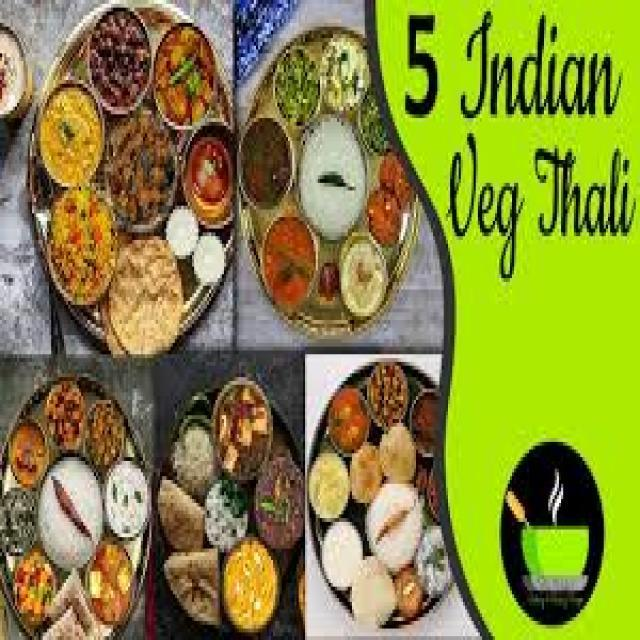curd: (166, 204, 197, 258)
dal: (34, 86, 103, 187)
papad: (108, 238, 180, 352)
raita: (37, 459, 100, 556), (101, 460, 151, 537), (164, 204, 199, 262)
rice: (295, 117, 370, 236)
roti: (101, 107, 181, 231), (107, 235, 181, 349)
sweet: (181, 130, 236, 222), (1, 21, 33, 125)
veg-fry: (152, 25, 223, 133), (88, 11, 151, 116), (258, 209, 319, 311), (4, 543, 60, 635), (5, 417, 49, 490)
